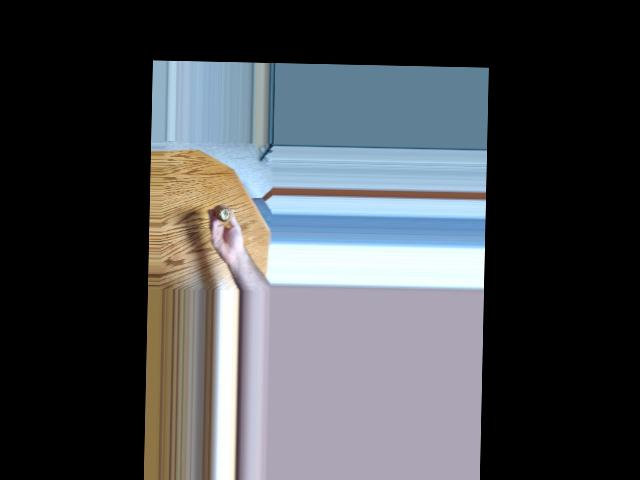sweet_potato: (217, 201, 234, 221)
